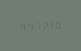four: (17, 21, 23, 31)
nine: (24, 20, 30, 31)
one: (46, 19, 52, 30)
seven: (32, 20, 38, 31)
two: (39, 20, 45, 30)
zero: (53, 19, 59, 30)
